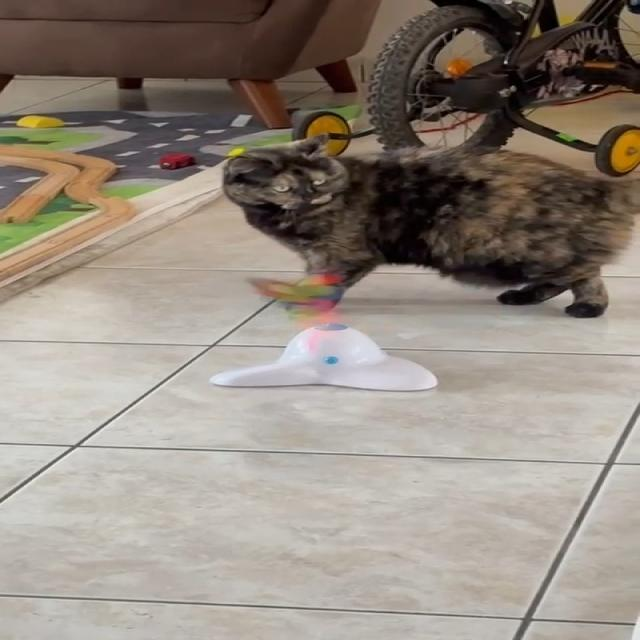authorized: (220, 131, 639, 318)
